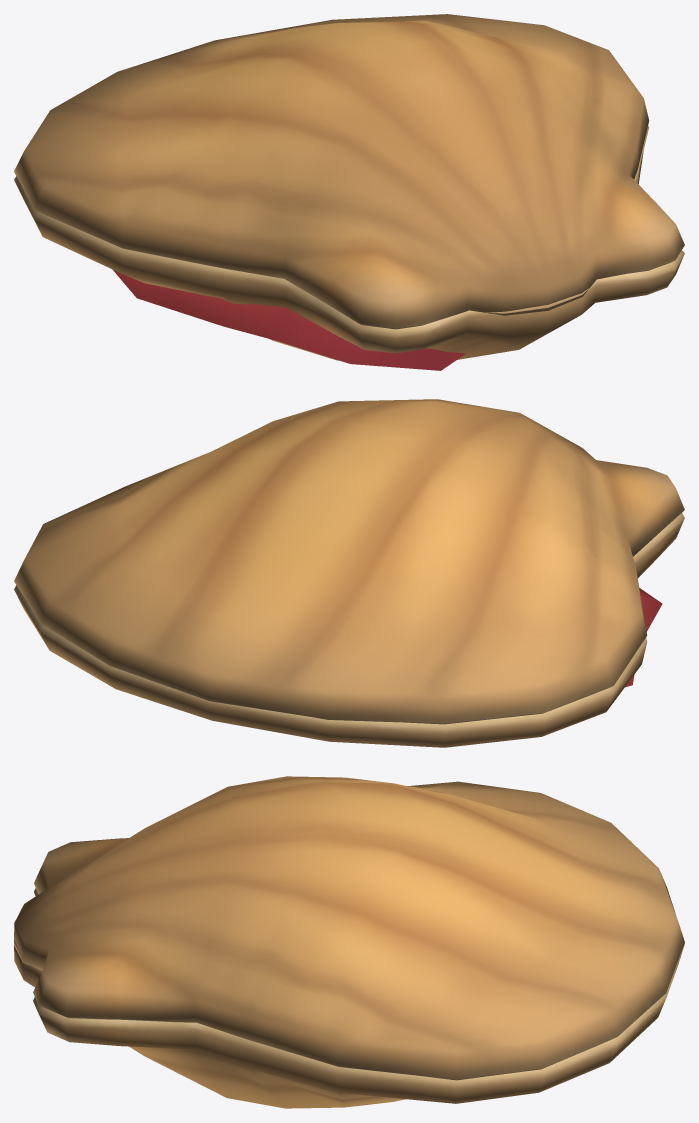
Rendered from Concha_fechada.fbx.
The picture shows the model from 3 angles, top to bottom: view 1: azimuth 30°, elevation 25°; view 2: azimuth 150°, elevation 25°; view 3: azimuth 270°, elevation 25°; orthographic projection.
Visible parts, largest first — view 1: Concha_inteira; view 2: Concha_inteira; view 3: Concha_inteira.
Boxes of the visible parts, x1,y1,x2,y2 form: Concha_inteira: (14, 14, 684, 370); Concha_inteira: (14, 399, 684, 747); Concha_inteira: (14, 776, 684, 1108).
Bounding box in the file's own units: 98.2 × 45.71 × 99.26.
